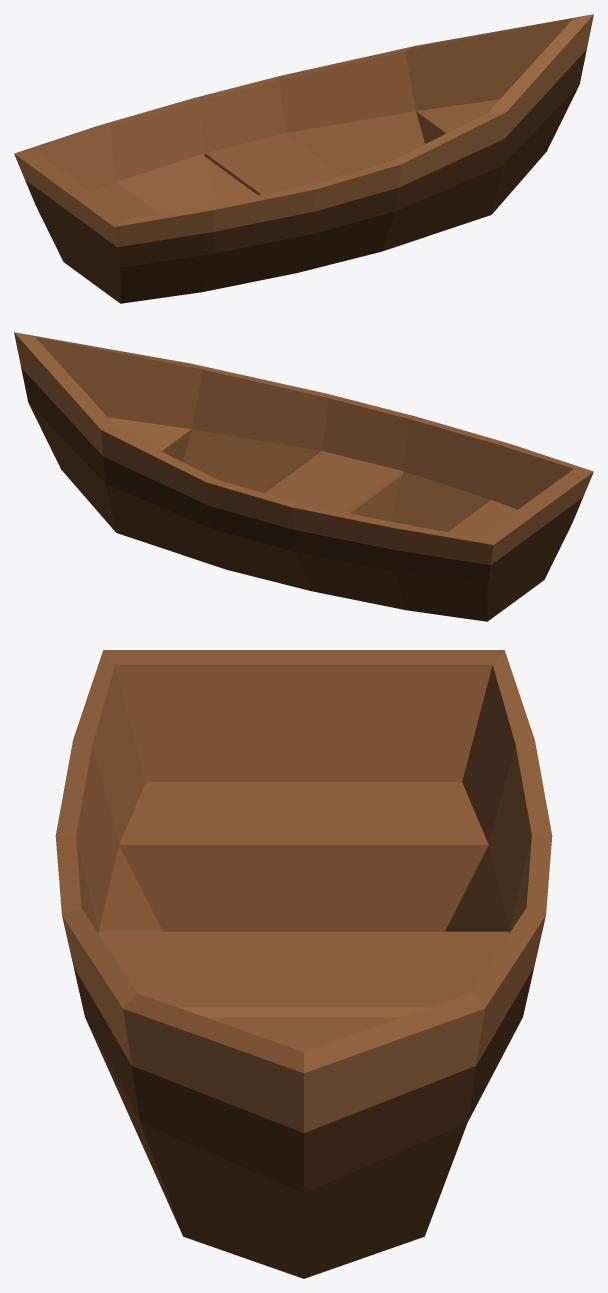
Rendered from Dinghy.fbx.
3 views of the same model, one above another, from view 1: azimuth 30°, elevation 25°; view 2: azimuth 150°, elevation 25°; view 3: azimuth 270°, elevation 25° (orthographic). The views are drawn at different scales.
Visible parts, largest first — view 1: Cube; view 2: Cube; view 3: Cube.
Part boxes in pixels (bbox=[...]): Cube: bbox=[14, 14, 593, 303]; Cube: bbox=[14, 332, 593, 621]; Cube: bbox=[55, 650, 552, 1278].
Bounding box in the file's own units: 290 × 76.68 × 118.
1 material, 1 textured.
